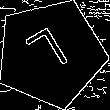L_SE: (24, 24, 78, 83)
